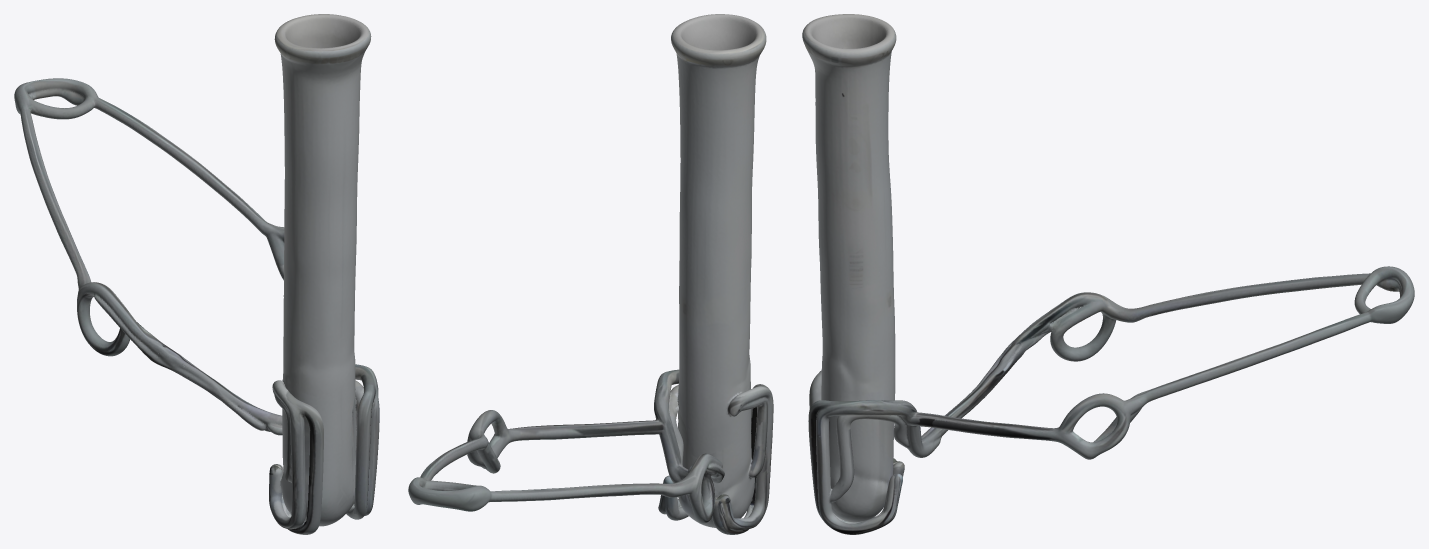
File: pinzas_para_tubo_de_ensayo (1).glb
The picture shows the model from 3 angles, left to right: view 1: azimuth 30°, elevation 25°; view 2: azimuth 150°, elevation 25°; view 3: azimuth 270°, elevation 25°; orthographic projection.
Visible parts, largest first — view 1: tripo_node_e4230cf7-ff0e-4550-a573-b5a4ec6e554f_0; view 2: tripo_node_e4230cf7-ff0e-4550-a573-b5a4ec6e554f_0; view 3: tripo_node_e4230cf7-ff0e-4550-a573-b5a4ec6e554f_0.
Part boxes in pixels (x1,y1,x2,y2): tripo_node_e4230cf7-ff0e-4550-a573-b5a4ec6e554f_0: (14, 14, 379, 534); tripo_node_e4230cf7-ff0e-4550-a573-b5a4ec6e554f_0: (408, 14, 773, 534); tripo_node_e4230cf7-ff0e-4550-a573-b5a4ec6e554f_0: (802, 14, 1414, 534).
Size of the model in its own units: 0.4345 by 0.8829 by 1.
Materials: 1 (1 with a texture image).
